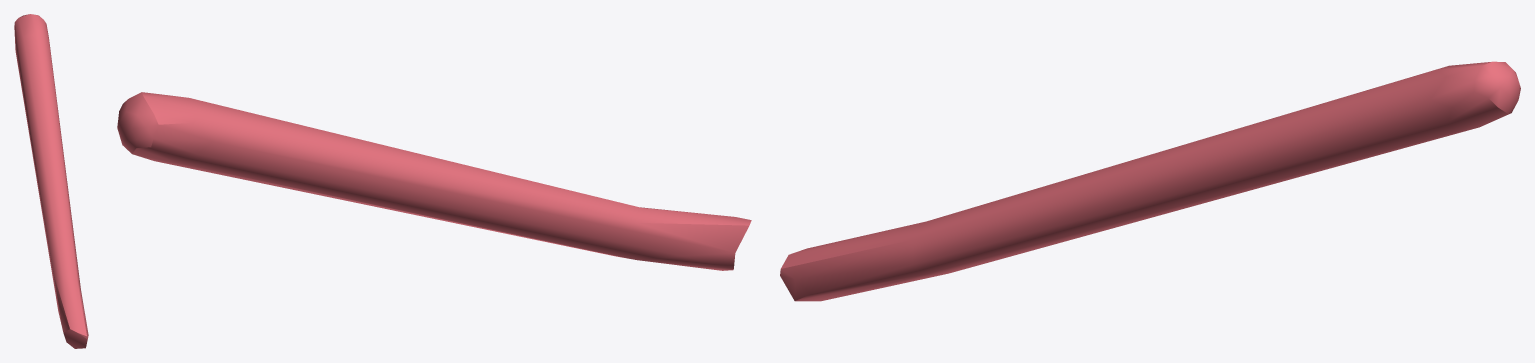
Rendered from fma8665_fj6102.glb.
3 renders of one model, left to right at view 1: azimuth 30°, elevation 25°; view 2: azimuth 150°, elevation 25°; view 3: azimuth 270°, elevation 25°, orthographic. The views are drawn at different scales.
Parts seen in each view (by area): view 1: FMA8665_FJ6102; view 2: FMA8665_FJ6102; view 3: FMA8665_FJ6102.
Part boxes in pixels (bbox=[...]): FMA8665_FJ6102: bbox=[14, 14, 88, 348]; FMA8665_FJ6102: bbox=[117, 92, 751, 270]; FMA8665_FJ6102: bbox=[780, 61, 1520, 301].
Bounding box in the file's own units: 0.0135 × 0.0162 × 0.0301.
